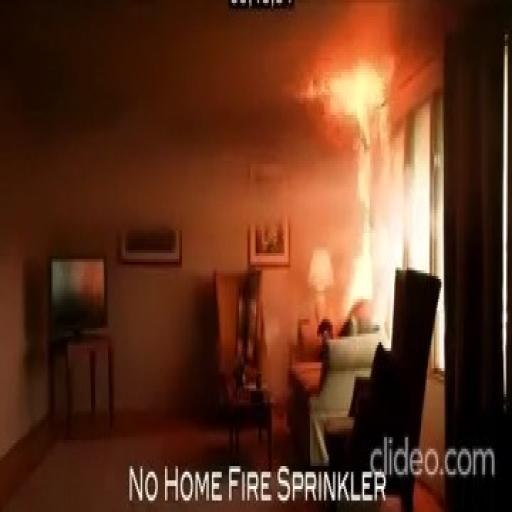fire: (303, 52, 390, 146), (344, 150, 373, 302)
